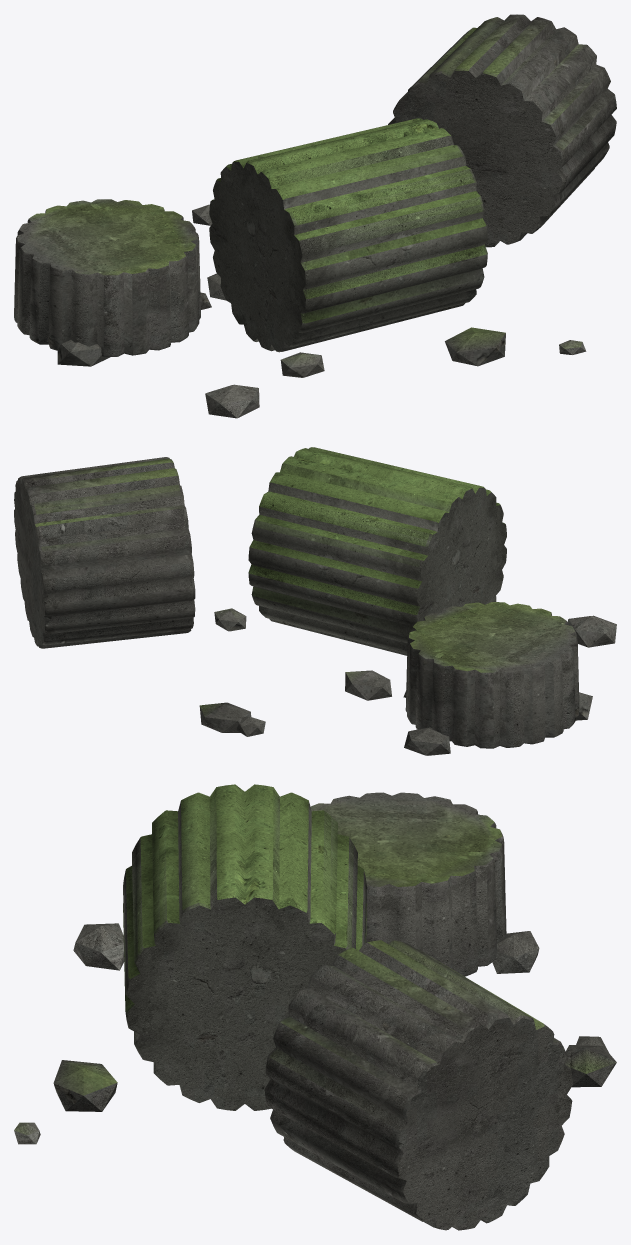
The model's file is ER_Tambour_Colonne_Tombe.gltf.
The picture shows the model from 3 angles, top to bottom: view 1: azimuth 30°, elevation 25°; view 2: azimuth 150°, elevation 25°; view 3: azimuth 270°, elevation 25°; orthographic projection. The views are drawn at different scales.
Parts seen in each view (by area): view 1: ER_Tambour_Colonne_Tombe_P.001, ER_Tambour_Colonne_Tombe_PM.001; view 2: ER_Tambour_Colonne_Tombe_P.001, ER_Tambour_Colonne_Tombe_PM.001; view 3: ER_Tambour_Colonne_Tombe_P.001, ER_Tambour_Colonne_Tombe_PM.001.
Part boxes in pixels (x1,y1,x2,y2): ER_Tambour_Colonne_Tombe_P.001: [14, 14, 616, 418]; ER_Tambour_Colonne_Tombe_PM.001: [209, 118, 487, 352]; ER_Tambour_Colonne_Tombe_P.001: [14, 457, 616, 755]; ER_Tambour_Colonne_Tombe_PM.001: [248, 447, 506, 655]; ER_Tambour_Colonne_Tombe_P.001: [14, 792, 616, 1230]; ER_Tambour_Colonne_Tombe_PM.001: [123, 784, 366, 1110].
Size of the model in its own units: 2.92 by 0.9056 by 2.07.
2 materials, 2 textured.
